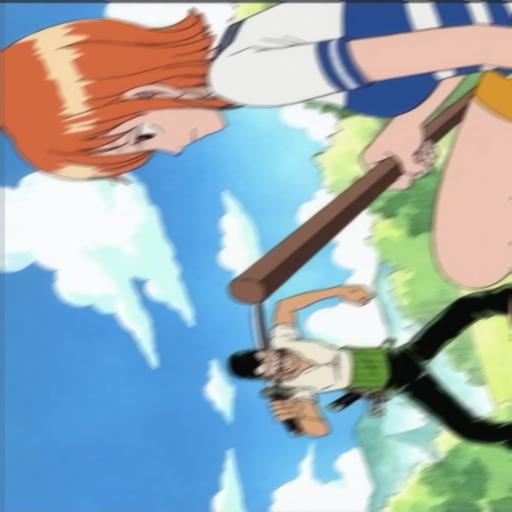Nami: (0, 0, 512, 274)
Zoro: (227, 280, 512, 450)
